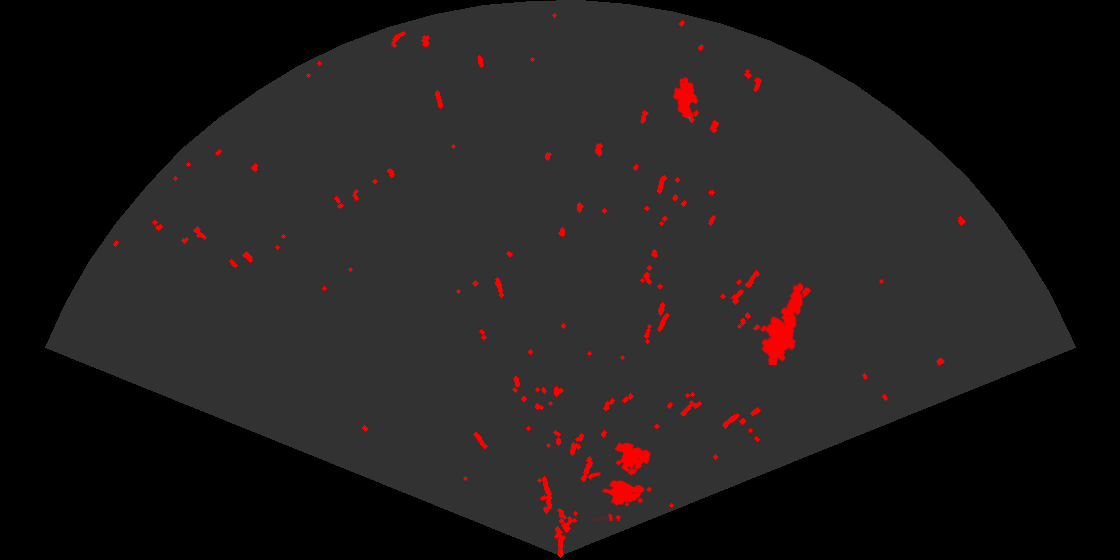AUV: (672, 75, 700, 125)
cage: (591, 441, 654, 521)
frogman: (758, 281, 805, 365)
